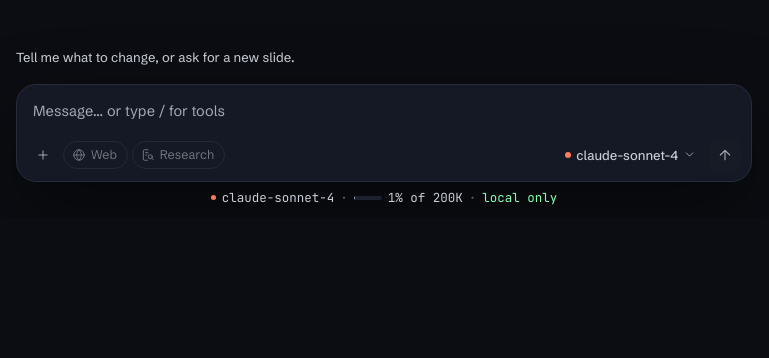
Test: ChatView and workflows › leaves other failed sends in the thread
Type "Hello again" into the text box named "Message the active provider" at (384, 106), box [17,84,751,128]
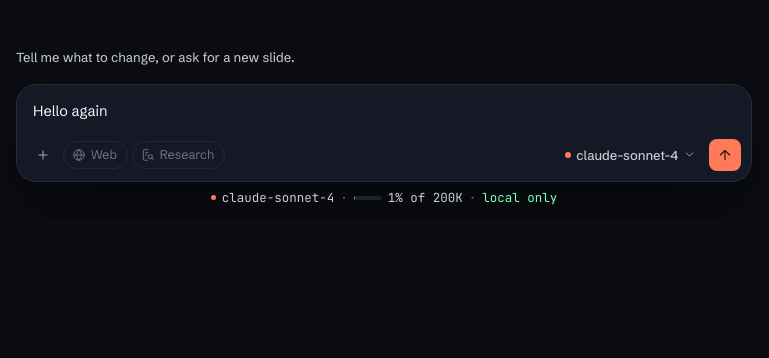
Click the button named "Send message" at (725, 154), box [709,138,741,170]
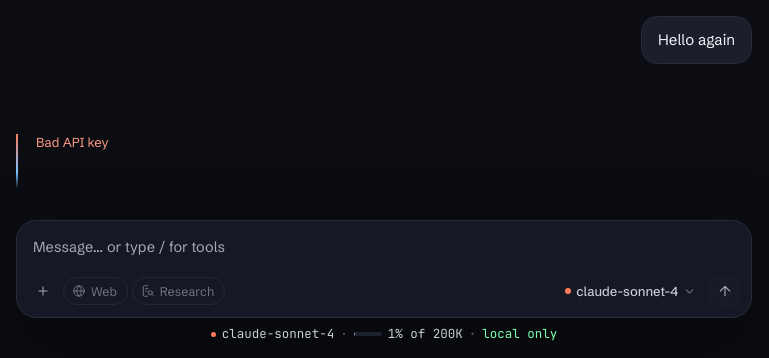
Result: the text box named "Message the active provider" is empty at [17,221,751,264]
Result: the text "Hello again" is shown at [658,28,735,52]
